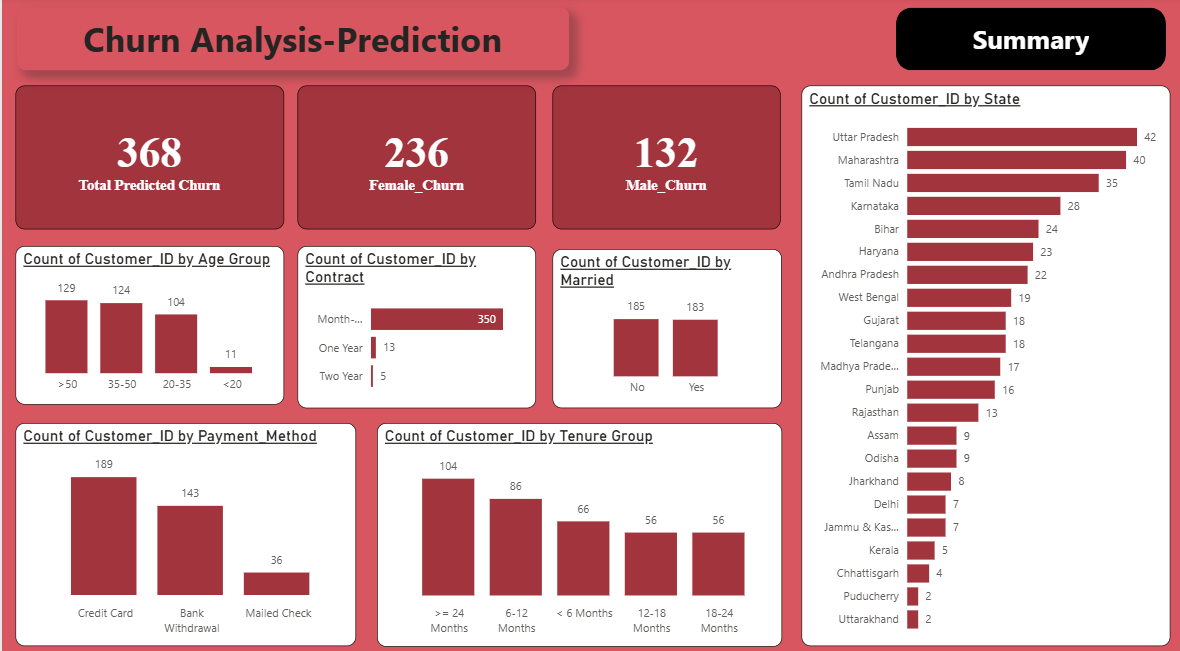

This screenshot's page, from the dashboard's own definition file:
{"tool":"powerbi","page":{"name":"Page 4","canvas":[1280,720],"ordinal":3},"visuals":[{"type":"card","fields":{"Values":["tbl_measures.Total Predicted Churn"]},"box":[14.6,96,291.2,156.1],"z":0},{"type":"card","fields":{"Values":["tbl_measures.Male_Churn"]},"box":[320.4,96,258.6,156.1],"z":1},{"type":"card","fields":{"Values":["tbl_measures.Male_Churn"]},"box":[596.9,96,247.2,156.1],"z":2},{"type":"clusteredColumnChart","fields":{"Category":["churn_project.Age Group"],"Y":["CountNonNull(prediction_data.Customer_ID)"]},"box":[14.9,270,291.5,172.3],"z":3},{"type":"clusteredColumnChart","fields":{"Category":["prediction_data.Married"],"Y":["CountNonNull(prediction_data.Customer_ID)"]},"box":[596.9,273.3,248.9,172.4],"z":4},{"type":"clusteredColumnChart","fields":{"Category":["churn_project.Tenure Group"],"Y":["CountNonNull(prediction_data.Customer_ID)"]},"box":[406.6,461.9,439.2,242.4],"z":5},{"type":"clusteredColumnChart","fields":{"Category":["prediction_data.Payment_Method"],"Y":["CountNonNull(prediction_data.Customer_ID)"]},"box":[14.9,462.2,369.4,241.8],"z":6},{"type":"clusteredBarChart","fields":{"Category":["prediction_data.Contract"],"Y":["CountNonNull(prediction_data.Customer_ID)"]},"box":[320.4,270,258.6,175.7],"z":7},{"type":"clusteredBarChart","fields":{"Category":["prediction_data.State"],"Y":["CountNonNull(prediction_data.Customer_ID)"]},"box":[866.9,96,400.1,608.3],"z":8},{"type":"shape","box":[969.4,11.4,292.8,68.3],"z":9}]}

Visuals, with their boxes in screenshot pixels (x1, y1, x2, y2), scaled from the page's 1280x720 canvas onto the 1180x651 screenshot:
card - tbl_measures.Total Predicted Churn: (13,87,282,228)
card - tbl_measures.Male_Churn: (295,87,534,228)
card - tbl_measures.Male_Churn: (550,87,778,228)
clusteredColumnChart - churn_project.Age Group x CountNonNull(prediction_data.Customer_ID): (14,244,282,400)
clusteredColumnChart - prediction_data.Married x CountNonNull(prediction_data.Customer_ID): (550,247,780,403)
clusteredColumnChart - churn_project.Tenure Group x CountNonNull(prediction_data.Customer_ID): (375,418,780,637)
clusteredColumnChart - prediction_data.Payment_Method x CountNonNull(prediction_data.Customer_ID): (14,418,354,637)
clusteredBarChart - prediction_data.Contract x CountNonNull(prediction_data.Customer_ID): (295,244,534,403)
clusteredBarChart - prediction_data.State x CountNonNull(prediction_data.Customer_ID): (799,87,1168,637)
shape: (894,10,1164,72)
